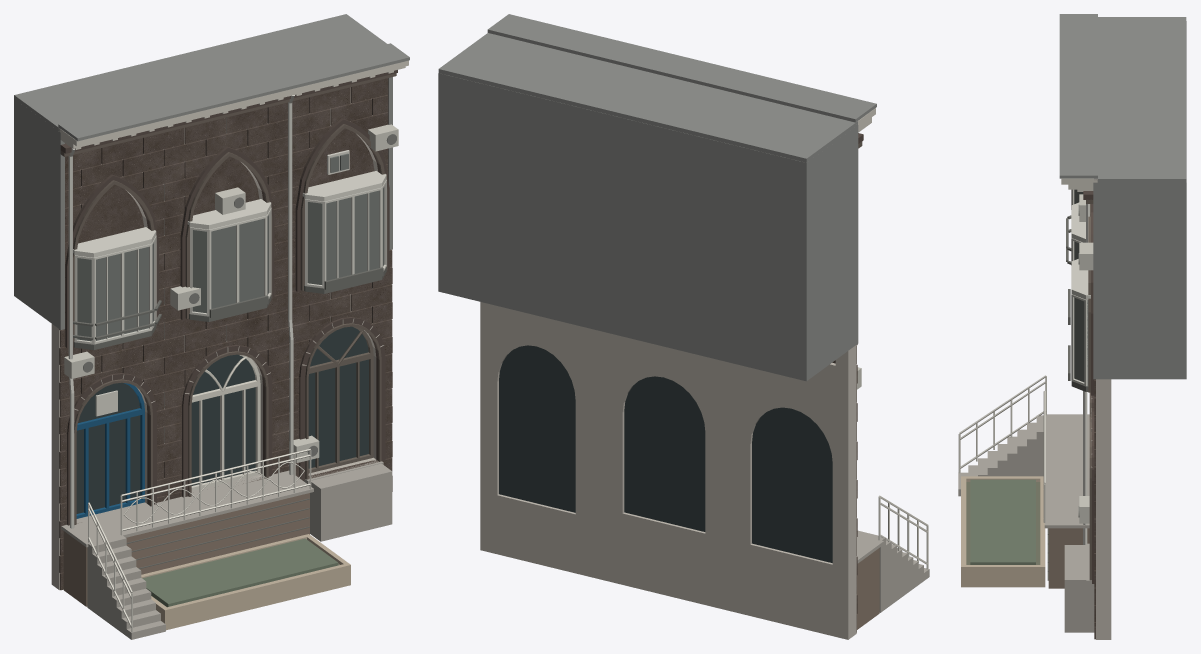
Rendered from huangpu-russell-company-fuzhou-three-bay-front-lod.glb.
The picture shows the model from 3 angles, left to right: view 1: azimuth 30°, elevation 25°; view 2: azimuth 150°, elevation 25°; view 3: azimuth 270°, elevation 25°; orthographic projection. The views are drawn at different scales.
Visible parts, largest first — view 1: 旗昌洋行福州路三开间石墙与尖券窗; view 2: 旗昌洋行福州路三开间石墙与尖券窗; view 3: 旗昌洋行福州路三开间石墙与尖券窗.
Boxes of the visible parts, x1=… form: 旗昌洋行福州路三开间石墙与尖券窗: x1=14, y1=14, x2=409, y2=639; 旗昌洋行福州路三开间石墙与尖券窗: x1=438, y1=14, x2=929, y2=639; 旗昌洋行福州路三开间石墙与尖券窗: x1=958, y1=14, x2=1186, y2=639.
Bounding box in the file's own units: 8.41 × 11.25 × 5.01.
Materials: 22 (1 with a texture image).
